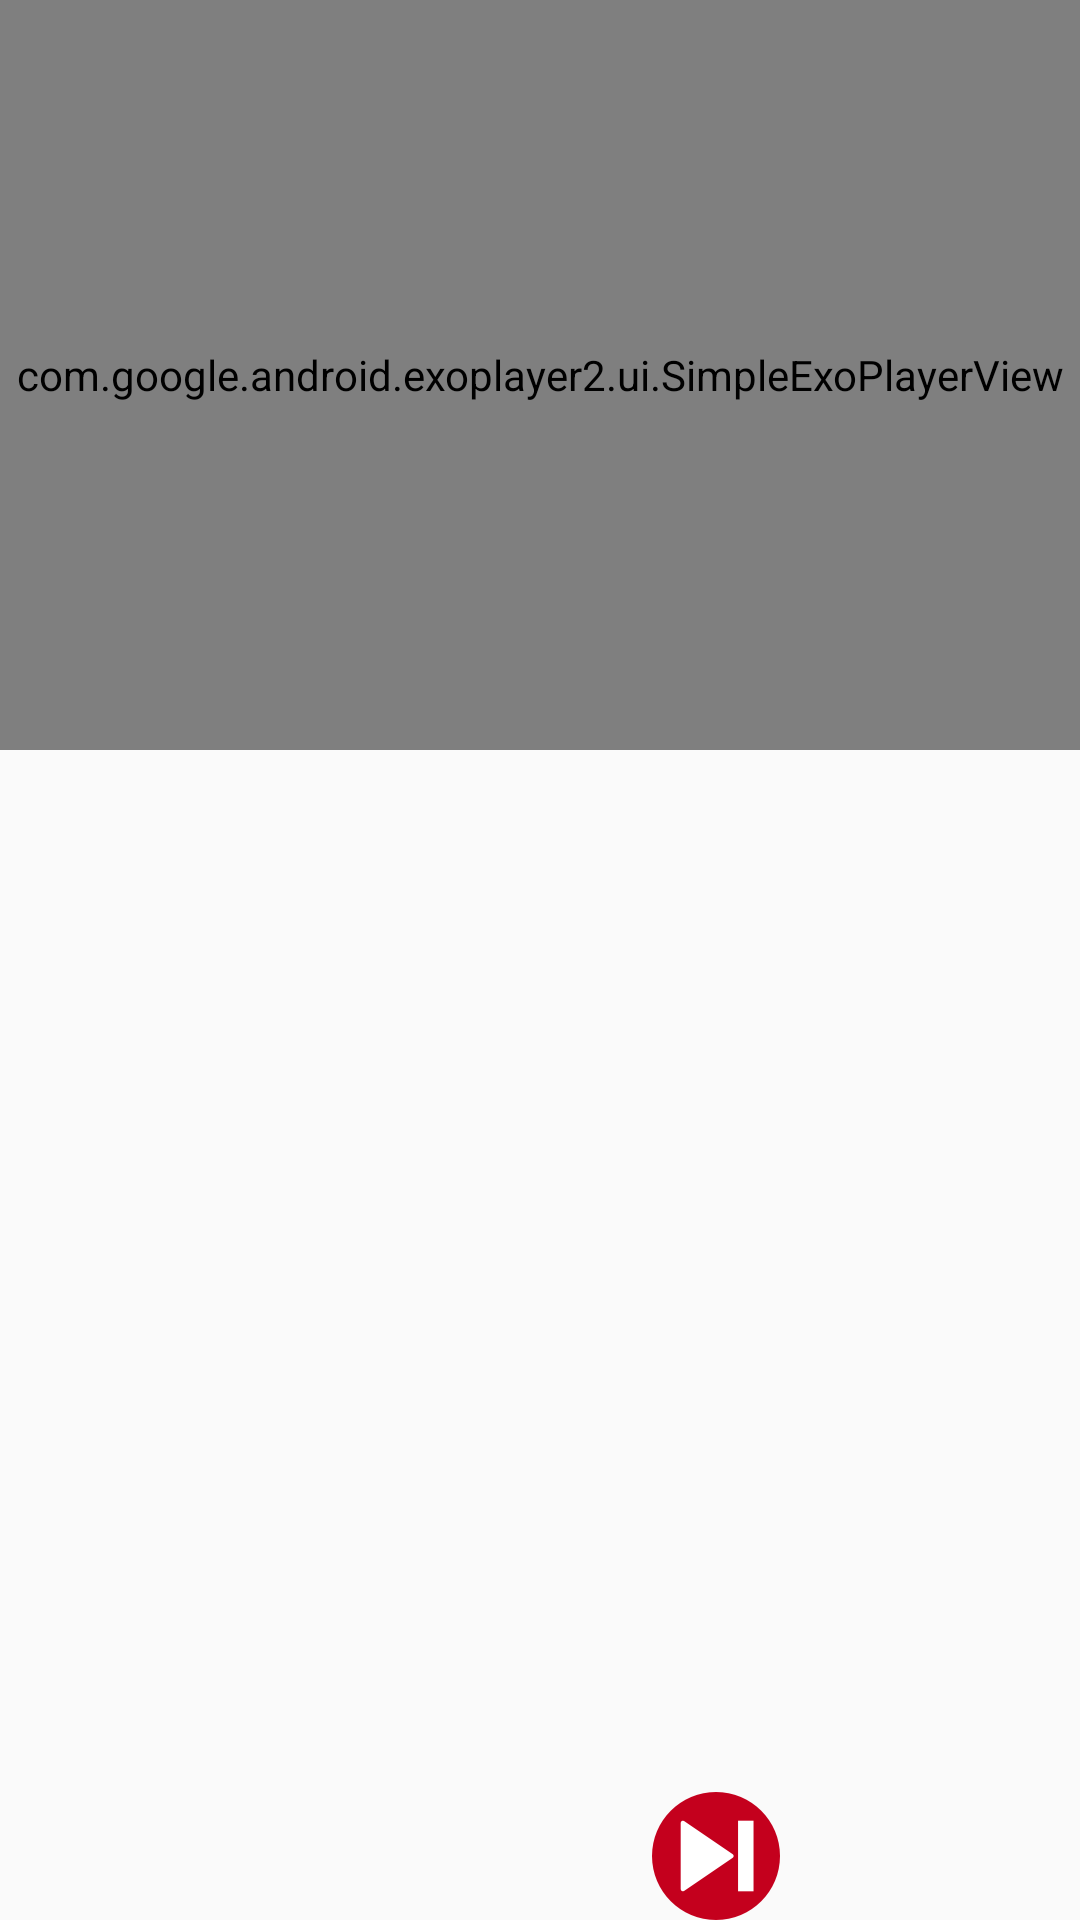

Locate icon controls on the screen. Image size 1080 × 1920, boxes as (x1, y1, x2, y2).
next: (652, 1792, 780, 1920)
